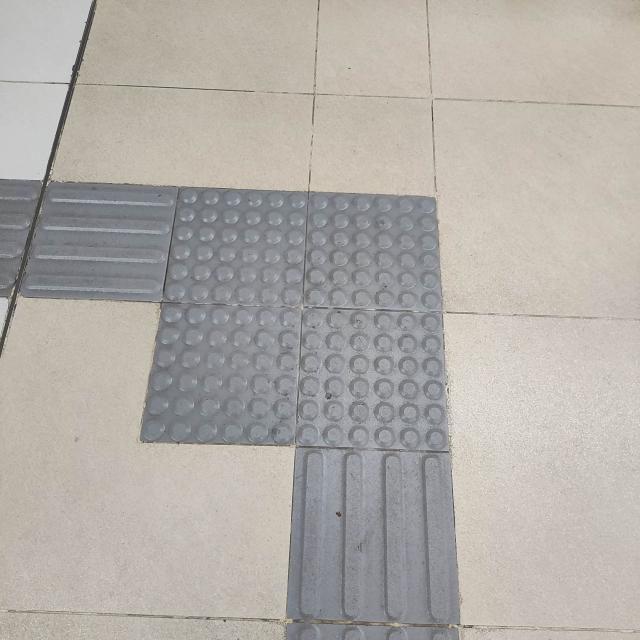kiri: (0, 120, 553, 543)
